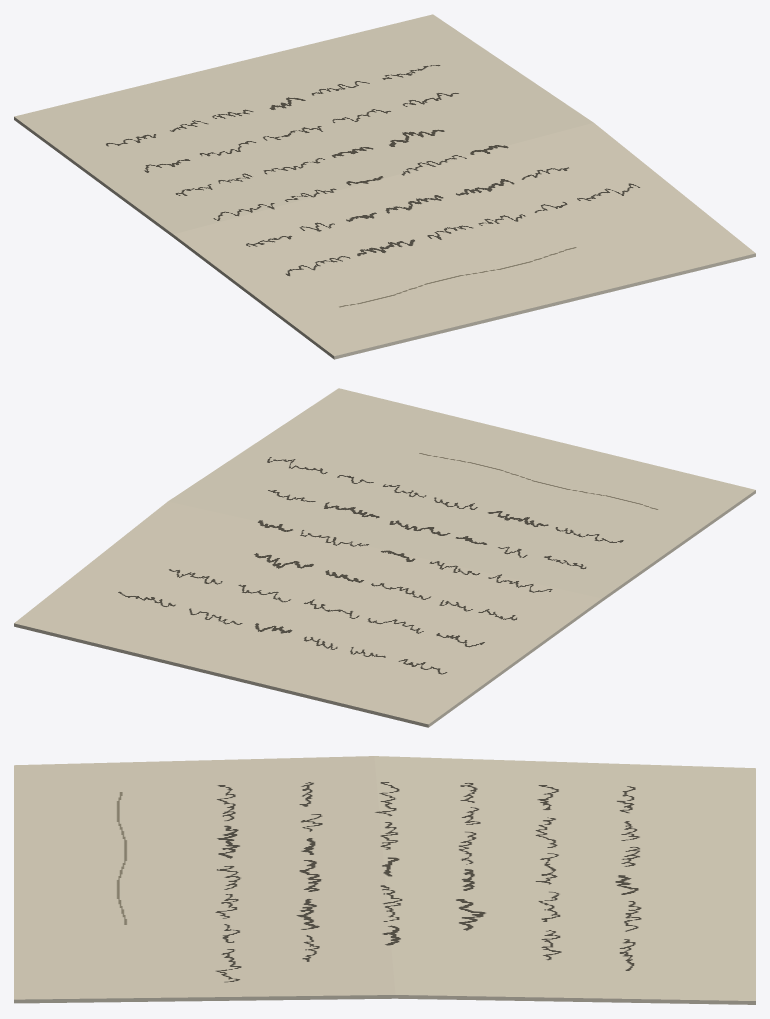
Rendered from Motel_Anonymous_Note.fbx.
The picture shows the model from 3 angles, top to bottom: view 1: azimuth 30°, elevation 25°; view 2: azimuth 150°, elevation 25°; view 3: azimuth 270°, elevation 25°; orthographic projection. The views are drawn at different scales.
Parts seen in each view (by area): view 1: Motel_Anonymous_Note; view 2: Motel_Anonymous_Note; view 3: Motel_Anonymous_Note.
Boxes of the visible parts, box(x1,y1,x2,y2) form: Motel_Anonymous_Note: box(14, 14, 755, 359); Motel_Anonymous_Note: box(14, 388, 755, 727); Motel_Anonymous_Note: box(14, 756, 755, 1004).
Size of the model in its own units: 0.16 by 0.0036 by 0.21.
